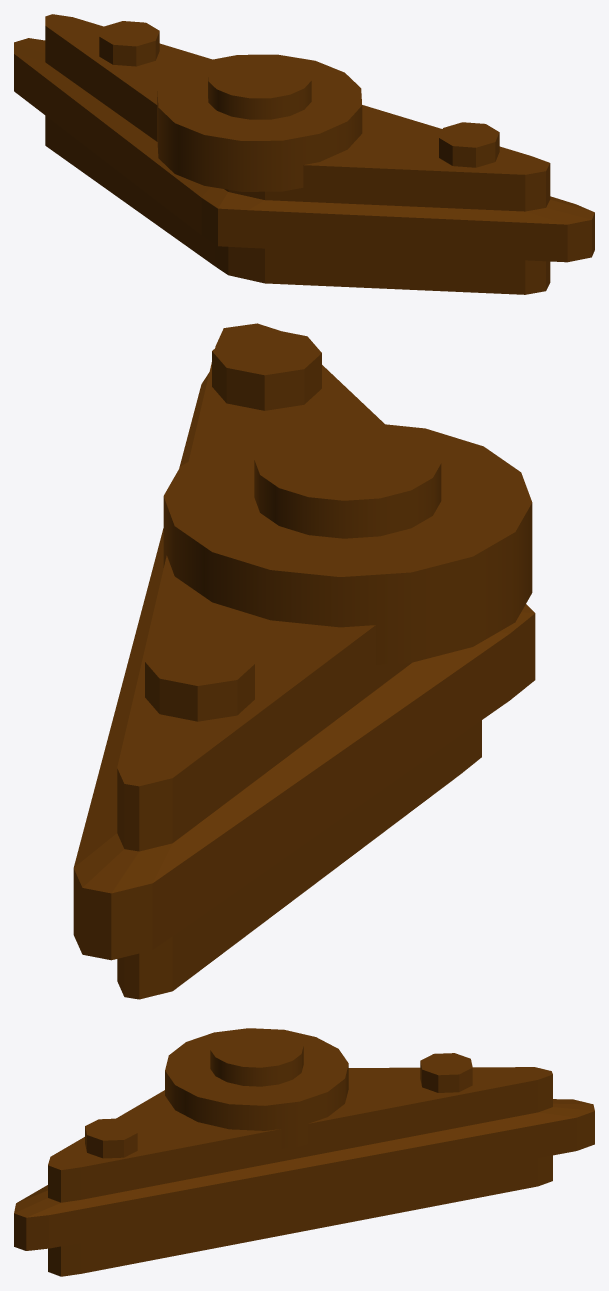
The model's file is Bumper_triangle_Left.glb.
3 renders of one model, top to bottom at view 1: azimuth 30°, elevation 25°; view 2: azimuth 150°, elevation 25°; view 3: azimuth 270°, elevation 25°, orthographic. The views are drawn at different scales.
Parts seen in each view (by area): view 1: Plane.003; view 2: Plane.003; view 3: Plane.003.
Boxes of the visible parts, <box> form: Plane.003: <box>14,14,594,294</box>; Plane.003: <box>73,323,535,999</box>; Plane.003: <box>14,1028,594,1276</box>.
Bounding box in the file's own units: 0.095 × 0.0522 × 0.1825.
